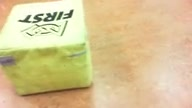cube: (1, 1, 94, 97)
